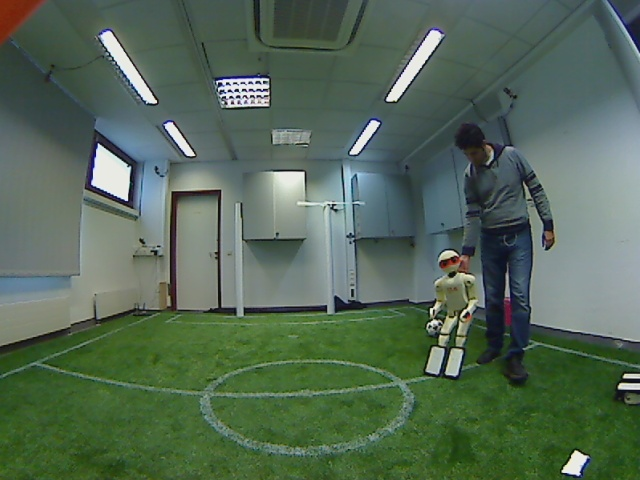ball: (421, 316, 445, 339)
robot: (422, 247, 479, 378)
